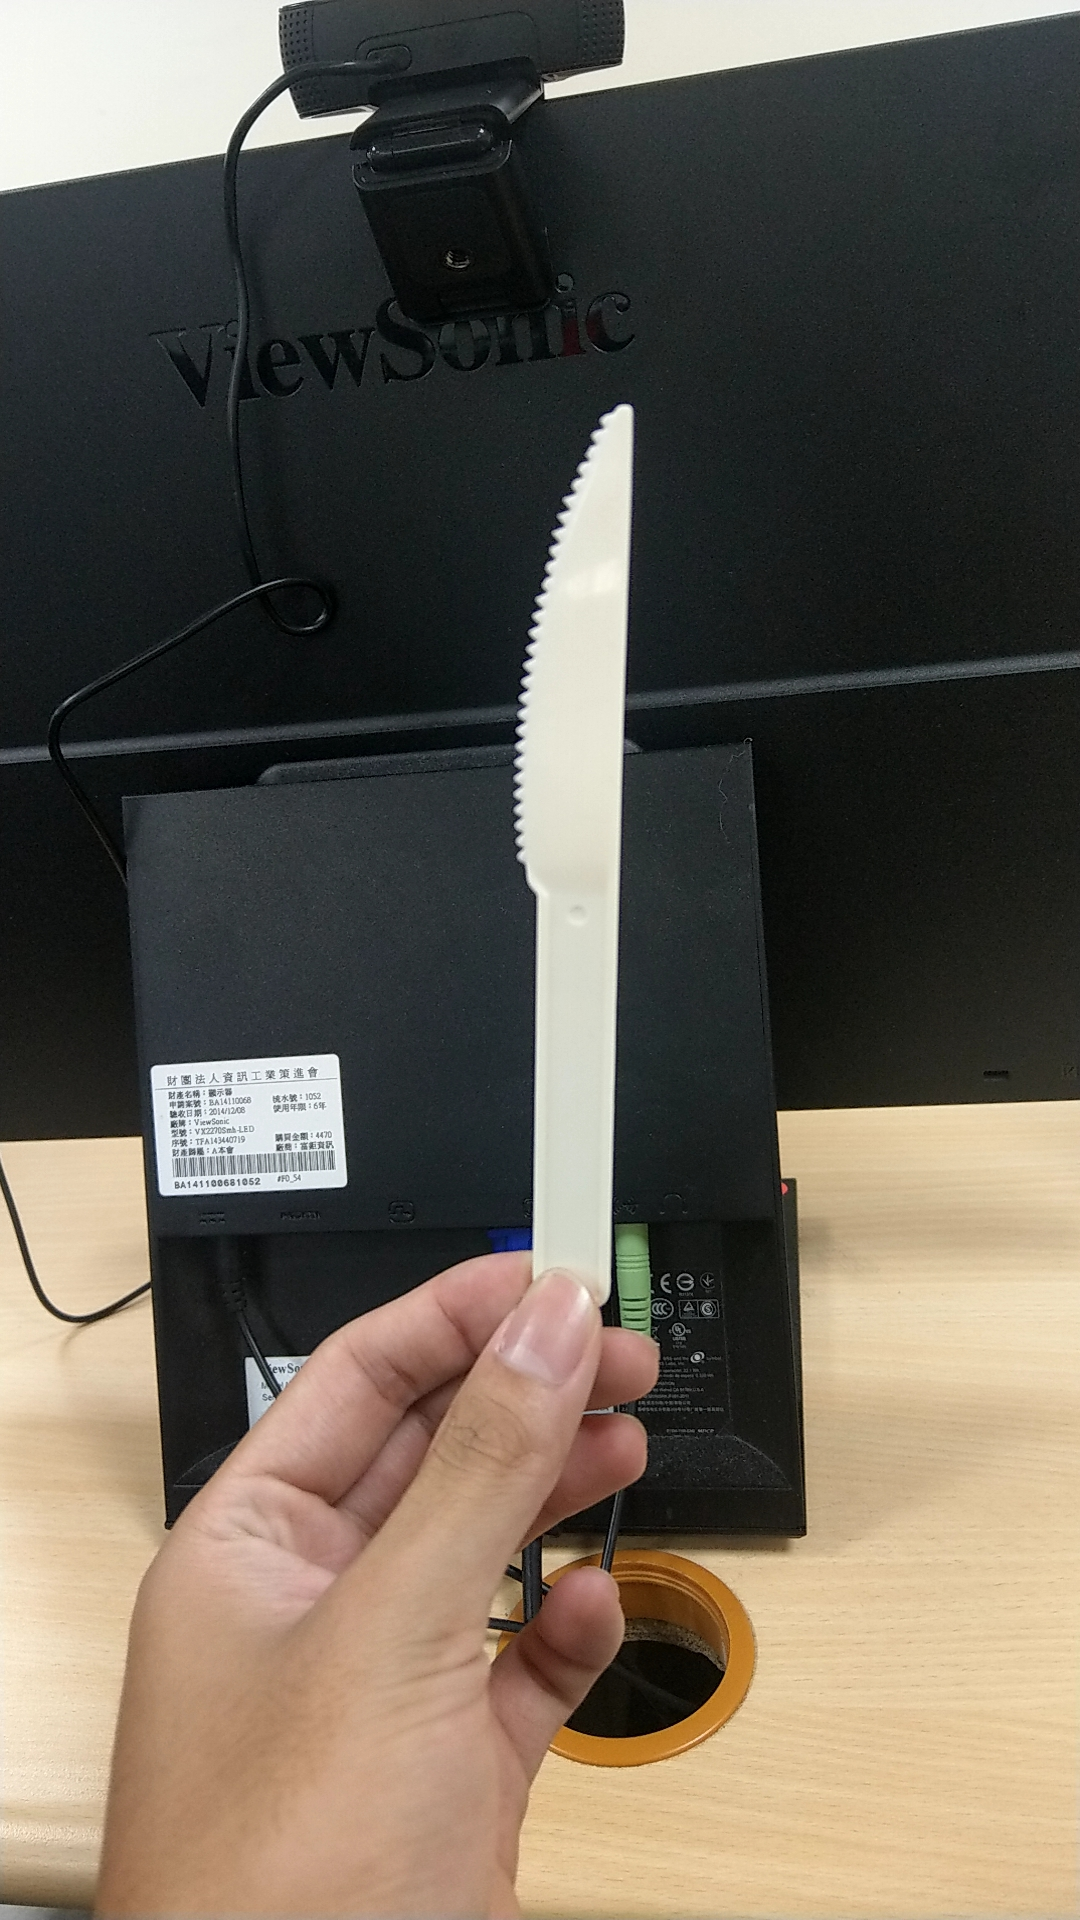knife: (491, 357, 673, 1294)
